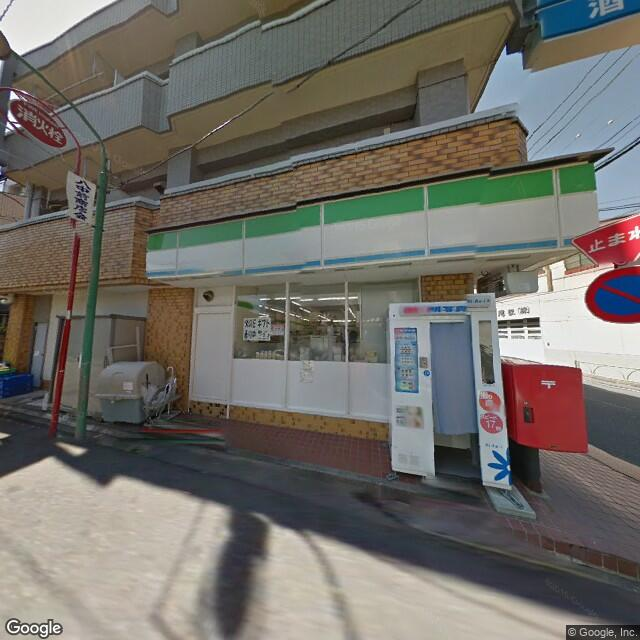family_mart: (142, 156, 599, 277)
